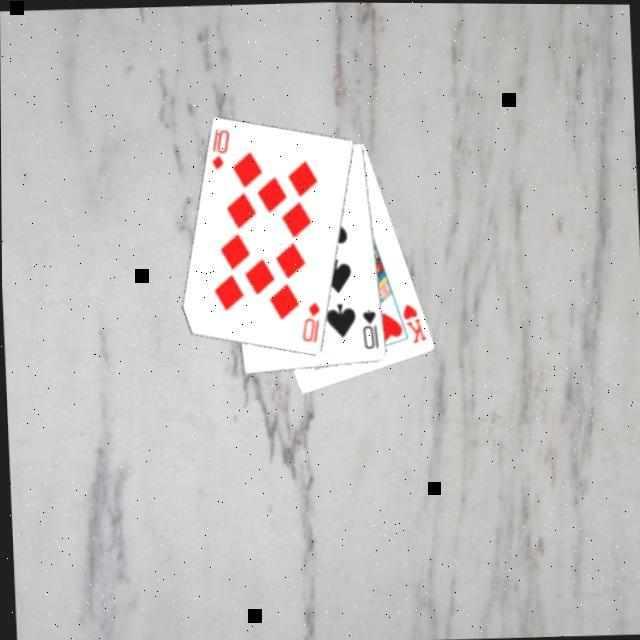10D: (204, 126, 232, 175), (295, 300, 322, 348)
10S: (356, 306, 380, 354)
KH: (397, 301, 428, 348)
